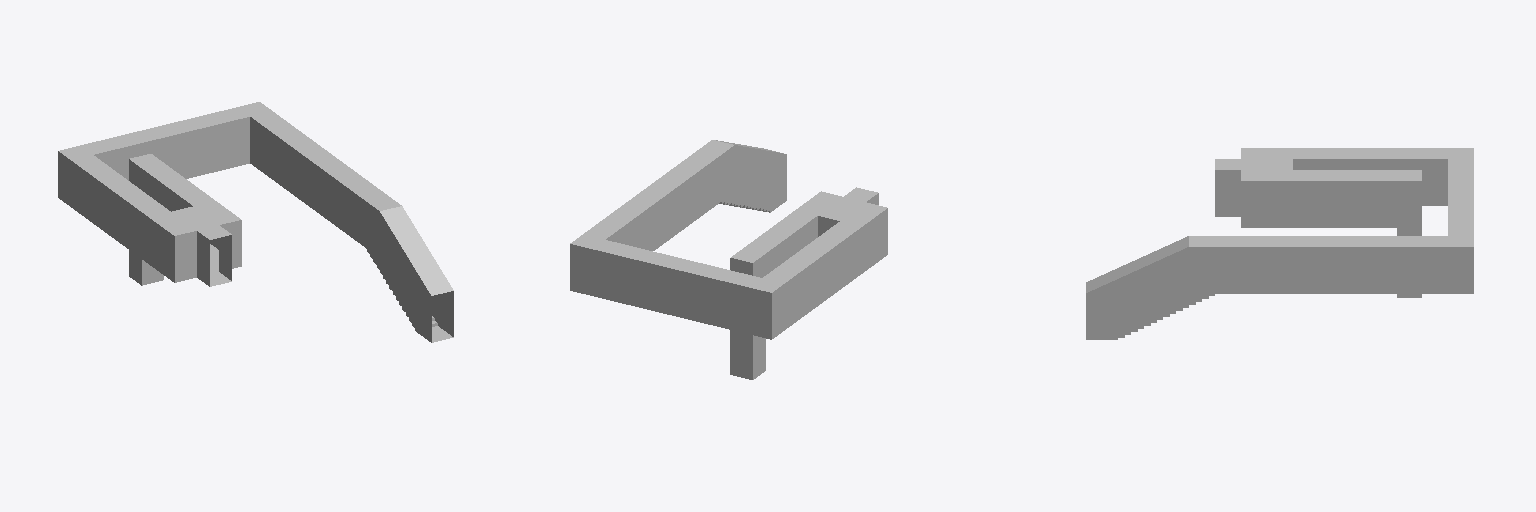
The model's file is map4.obj.
3 renders of one model, left to right at view 1: azimuth 30°, elevation 25°; view 2: azimuth 150°, elevation 25°; view 3: azimuth 270°, elevation 25°, orthographic.
Parts seen in each view (by area): view 1: map4; view 2: map4; view 3: map4.
Boxes of the visible parts, box(x1,y1,x2,y2) form: map4: box(58, 102, 453, 342); map4: box(570, 140, 887, 379); map4: box(1086, 148, 1473, 339).
Size of the model in its own units: 9 by 5 by 15.